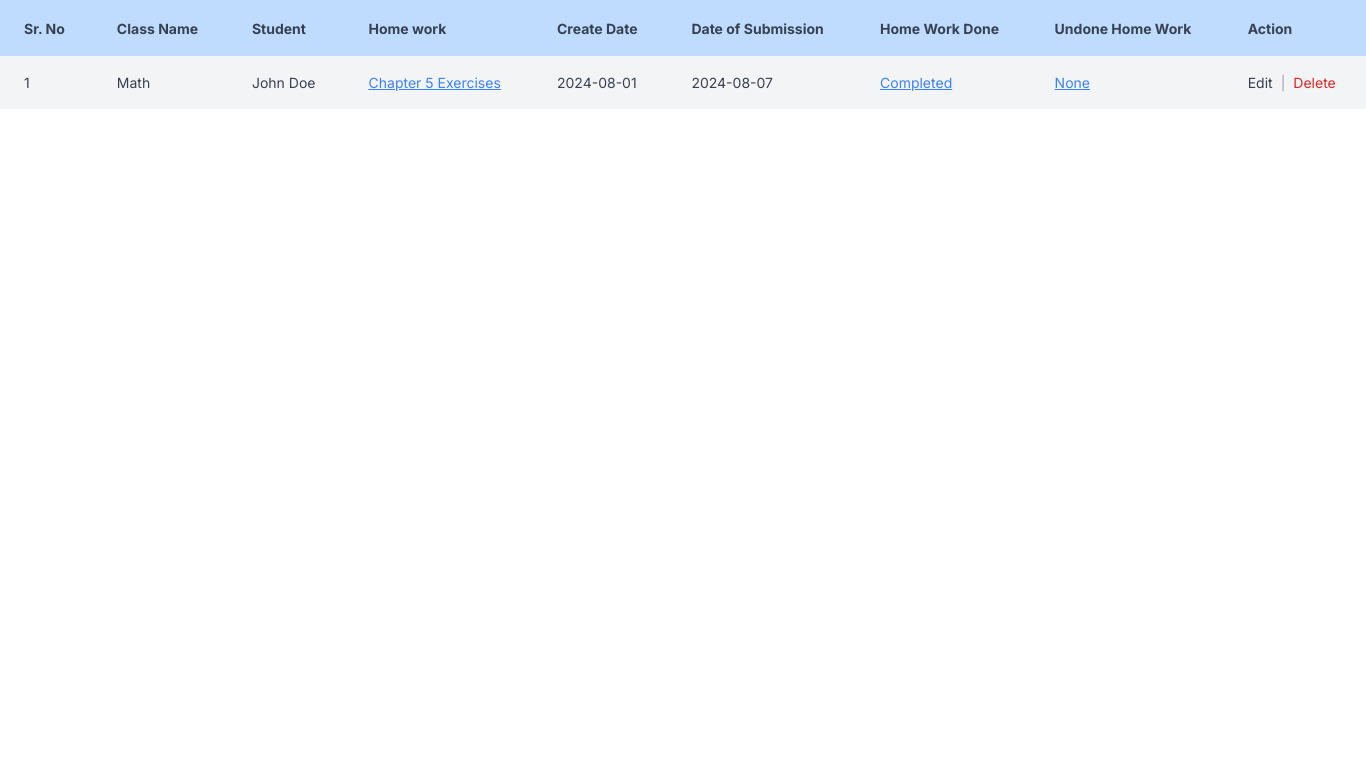
ClassesTable Component › closes delete confirmation dialog on cancel button click
Click the button "Delete" at x=1314, y=82, box [1293,72,1336,93]
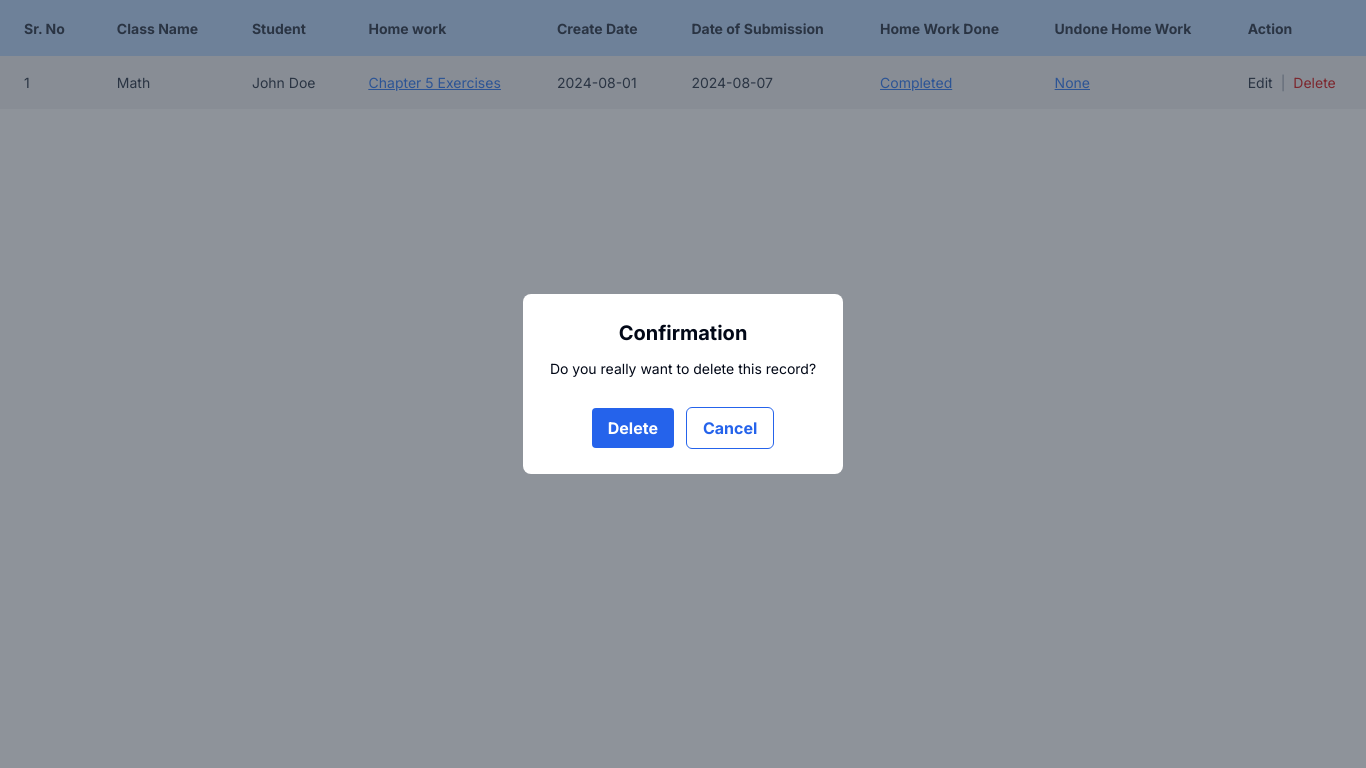
Click the button "Cancel" at x=730, y=428, box [686,407,774,449]
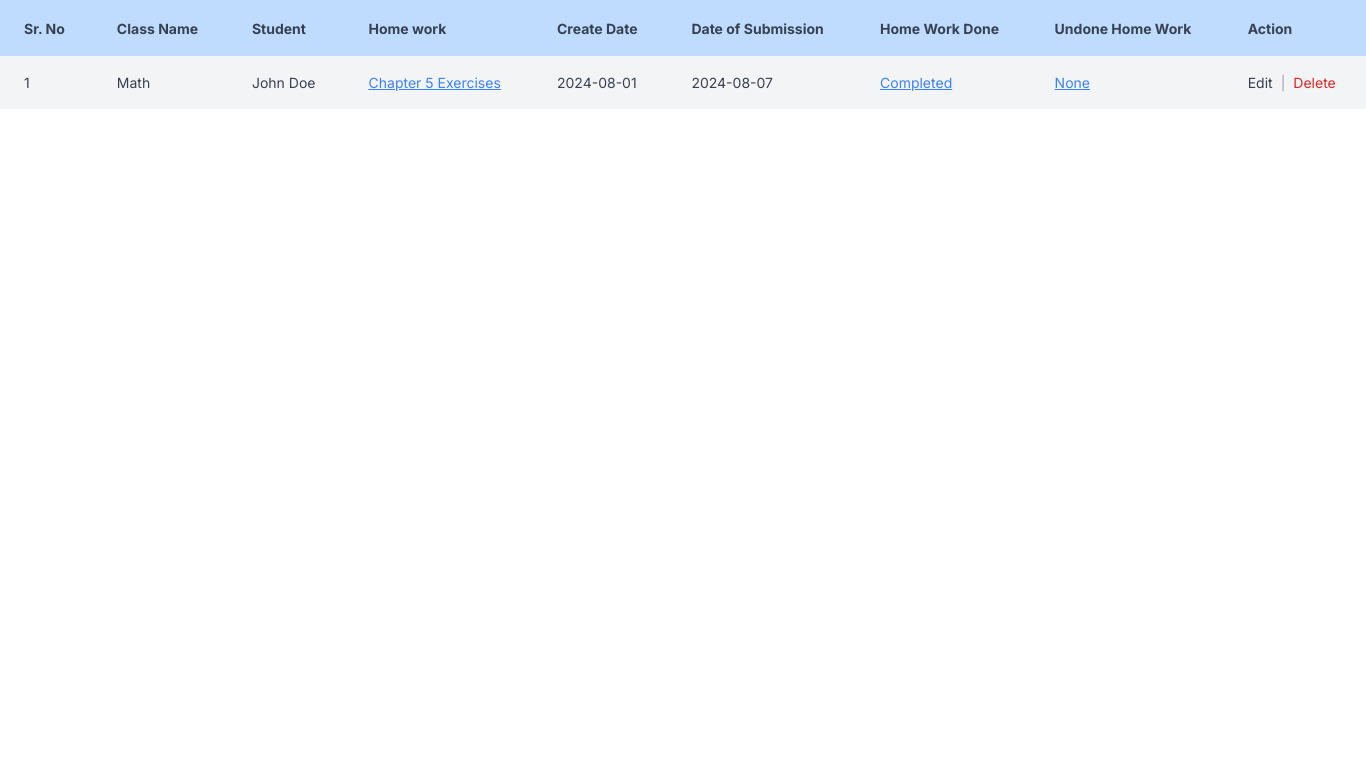
Result: the heading "Do you really want to delete this record?" is gone
